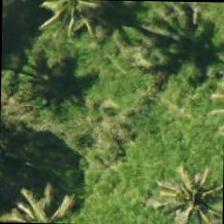Kelapa_Sawit: (152, 155, 224, 223), (5, 174, 97, 223)
